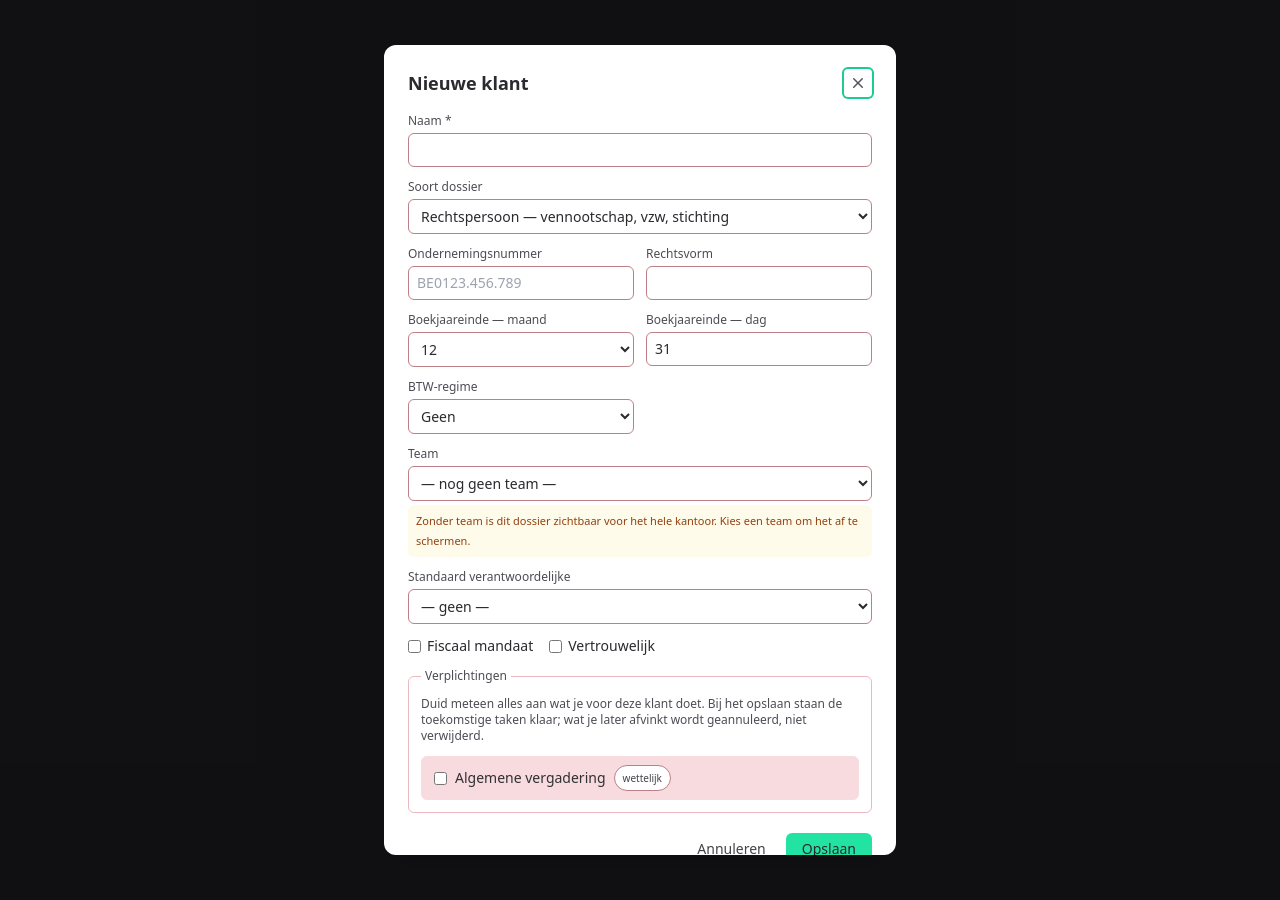
Test: ClientFormModal — de catalogus komt later binnen › houdt vast wat de gebruiker al aanvinkte terwijl de types binnenkomen
Later steps or results of the test are not shown.
Click the checkbox labelled "Algemene vergadering wettelijk" at (440, 778), box [434,772,447,784]
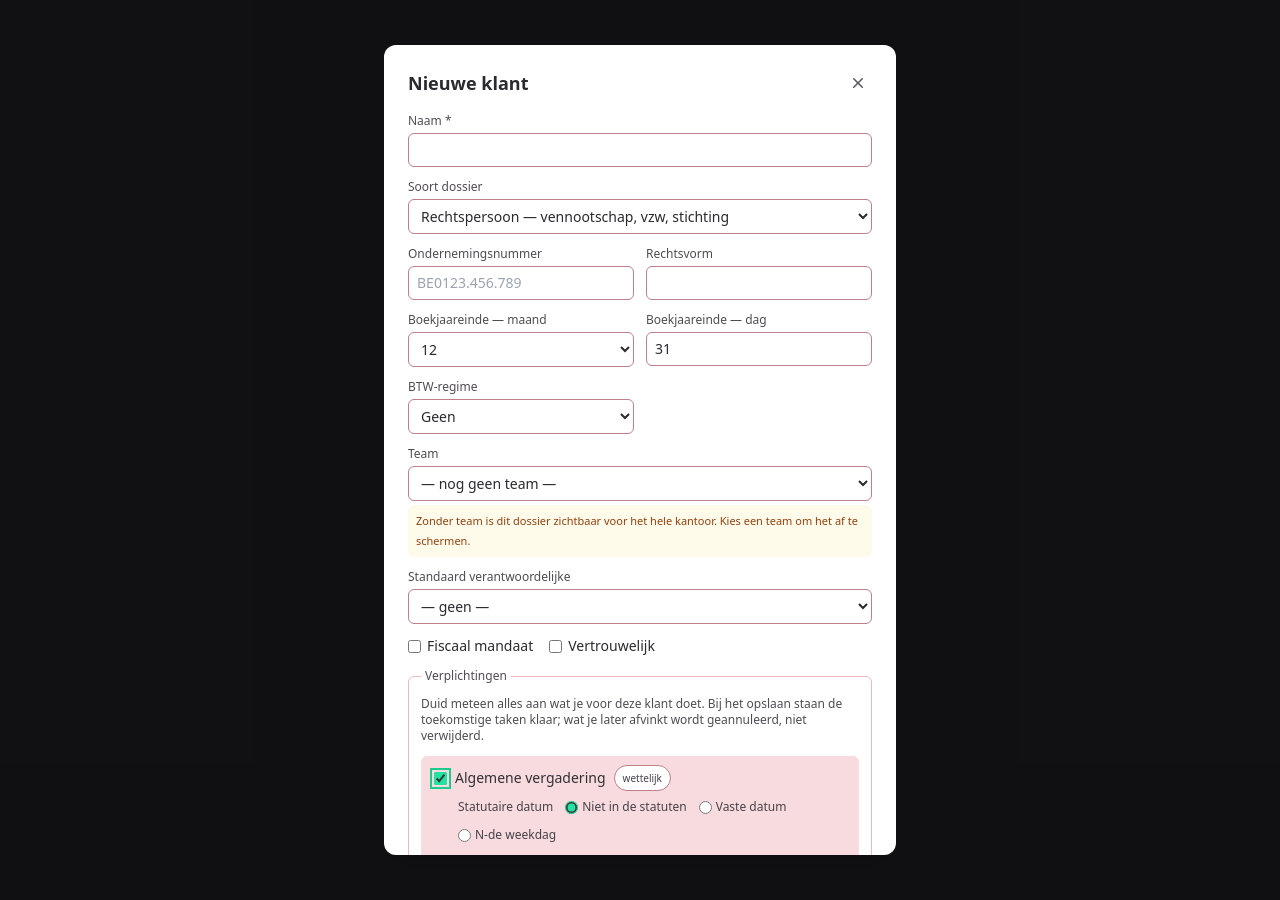
Expected: the checkbox labelled "Algemene vergadering wettelijk" is checked, [434,772,447,784]
